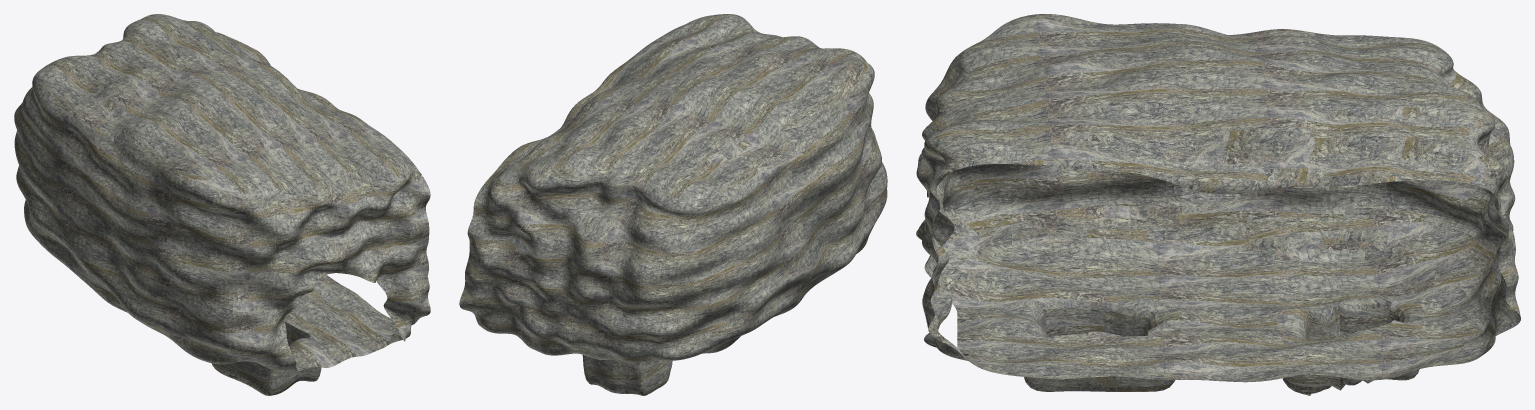
Rendered from level_3_cave.fbx.
3 renders of one model, left to right at view 1: azimuth 30°, elevation 25°; view 2: azimuth 150°, elevation 25°; view 3: azimuth 270°, elevation 25°, orthographic. The views are drawn at different scales.
Parts seen in each view (by area): view 1: Cube; view 2: Cube; view 3: Cube.
Part boxes in pixels (bbox=[...]): Cube: bbox=[14, 14, 430, 395]; Cube: bbox=[459, 14, 887, 395]; Cube: bbox=[916, 14, 1520, 395].
Size of the model in its own units: 478 by 490 by 828.
Materials: 1 (1 with a texture image).
